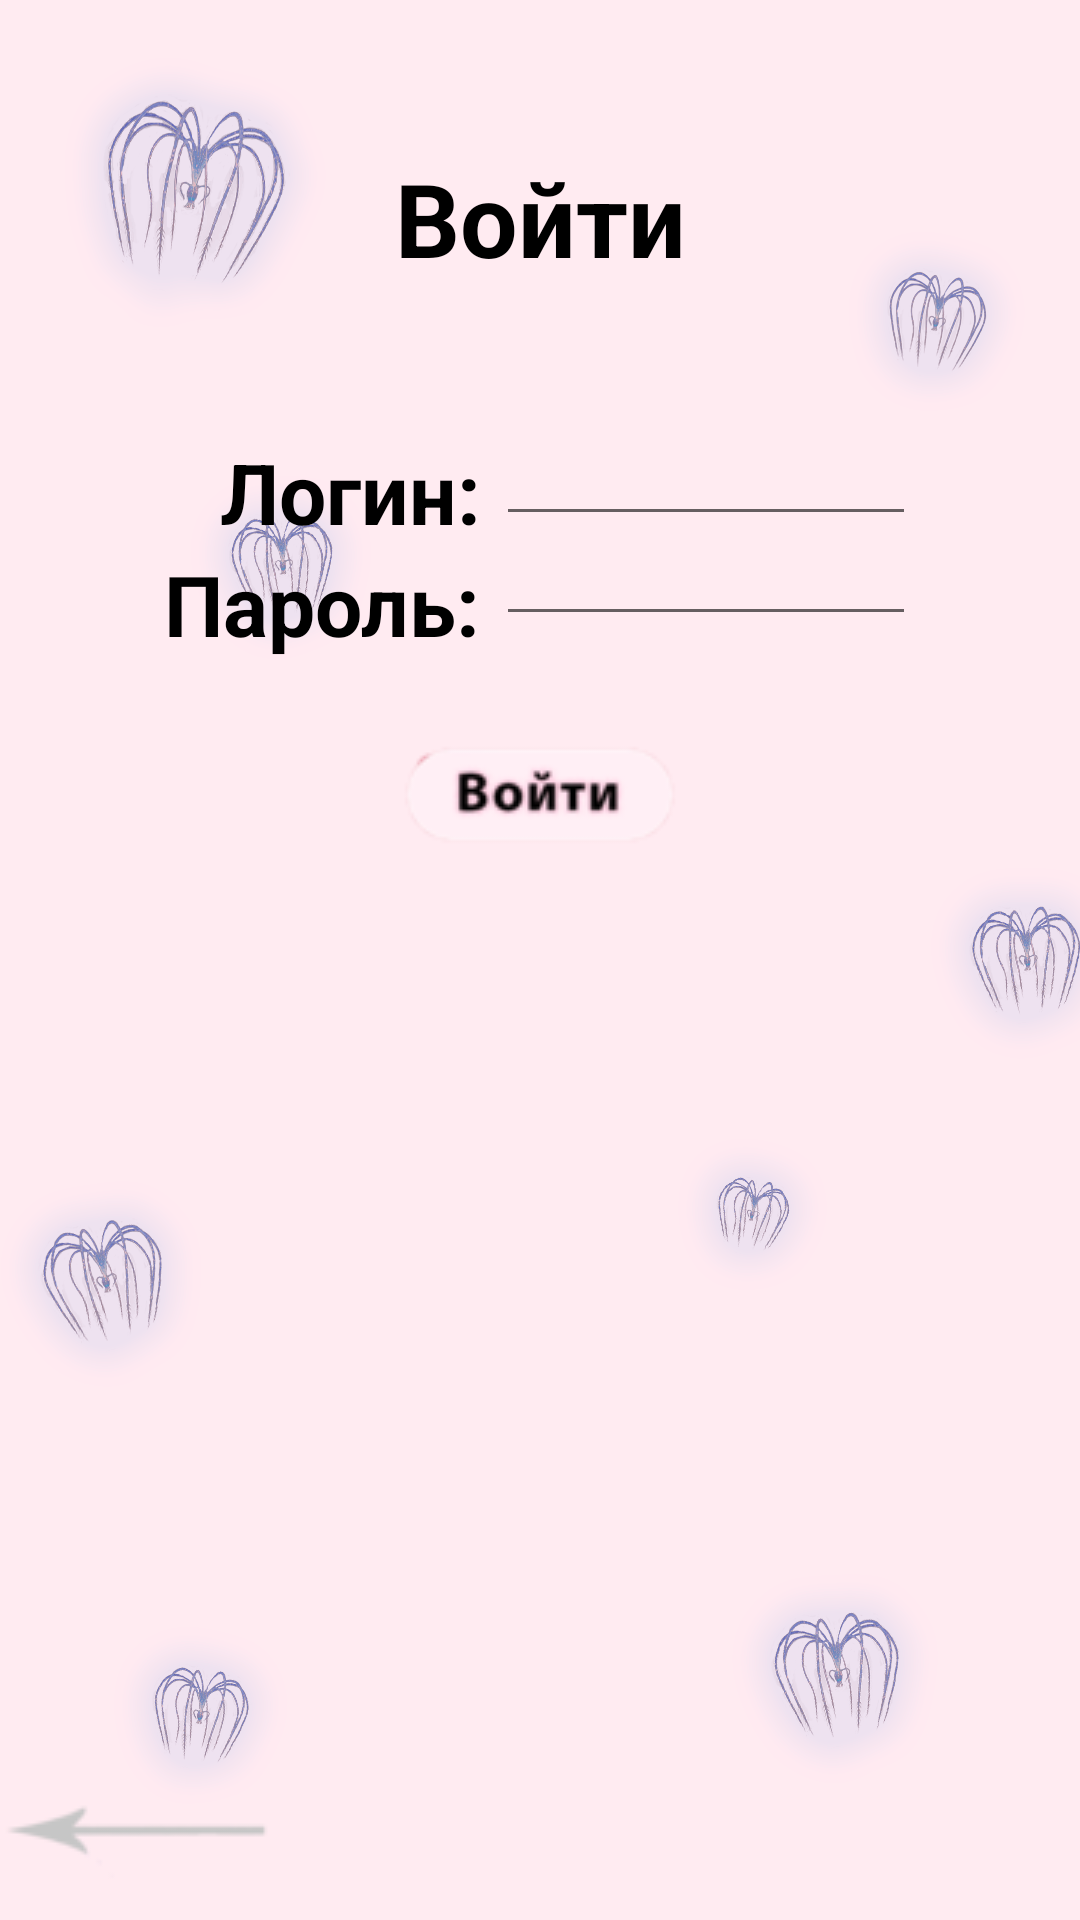

Point at icon controls on the screen. Image size 1080*1920, points as (x=x, y=y).
back: (x=139, y=1830)
